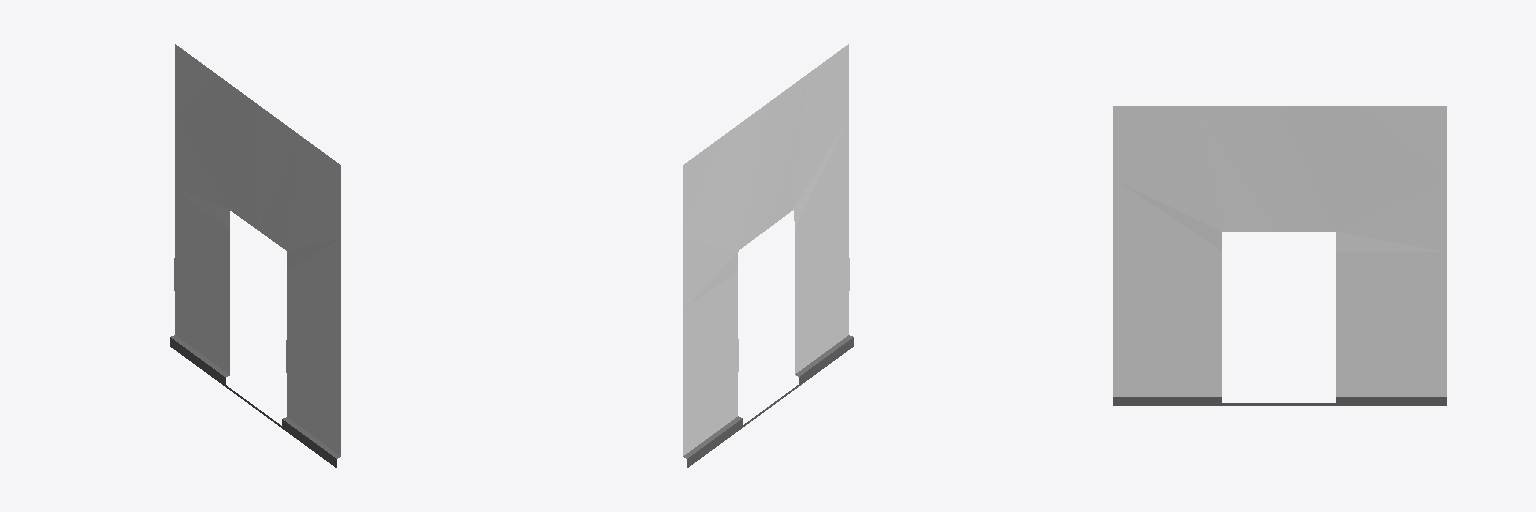
Rendered from SM_Env_Wall_Door_Hole_001.obj.
3 views of the same model, side by side, from view 1: azimuth 30°, elevation 25°; view 2: azimuth 150°, elevation 25°; view 3: azimuth 270°, elevation 25° (orthographic).
Visible parts, largest first — view 1: SM_Env_Wall_Door_Hole_001; view 2: SM_Env_Wall_Door_Hole_001; view 3: SM_Env_Wall_Door_Hole_001.
Part boxes in pixels (bbox=[...]): SM_Env_Wall_Door_Hole_001: bbox=[170, 44, 340, 467]; SM_Env_Wall_Door_Hole_001: bbox=[683, 44, 853, 467]; SM_Env_Wall_Door_Hole_001: bbox=[1113, 106, 1446, 405].
Size of the model in its own units: 0.0697 by 4 by 4.